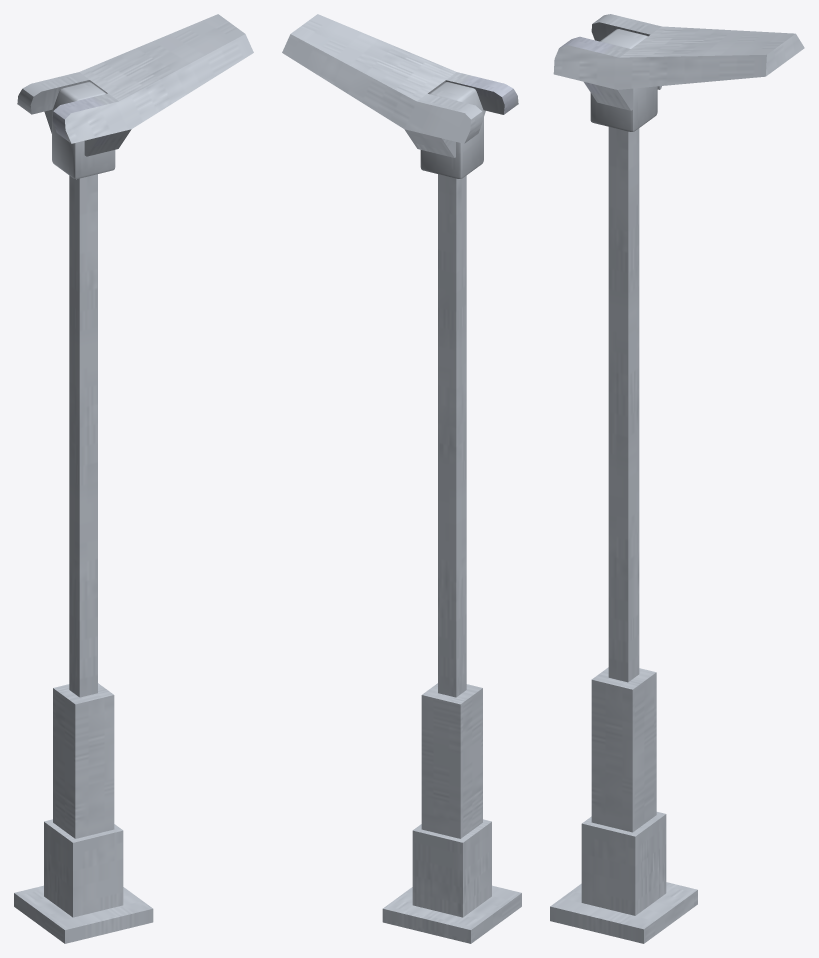
Rendered from street_lamp.obj.
3 views of the same model, side by side, from view 1: azimuth 30°, elevation 25°; view 2: azimuth 150°, elevation 25°; view 3: azimuth 330°, elevation 25° (orthographic). The views are drawn at different scales.
Parts seen in each view (by area): view 1: Null_1_Mesh; view 2: Null_1_Mesh; view 3: Null_1_Mesh.
Part boxes in pixels (x1,y1,x2,y2): Null_1_Mesh: (14,14,253,943); Null_1_Mesh: (282,14,521,943); Null_1_Mesh: (550,14,804,943).
Bounding box in the file's own units: 4.19 × 17.44 × 2.01.
